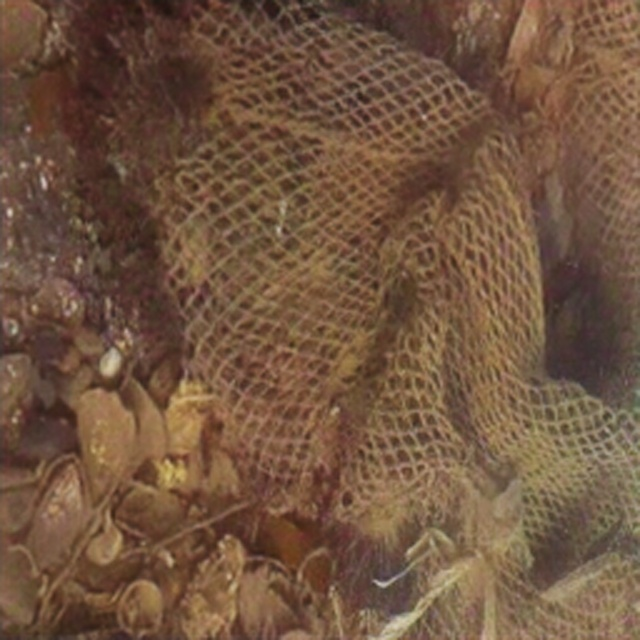mine: (140, 0, 639, 639)
